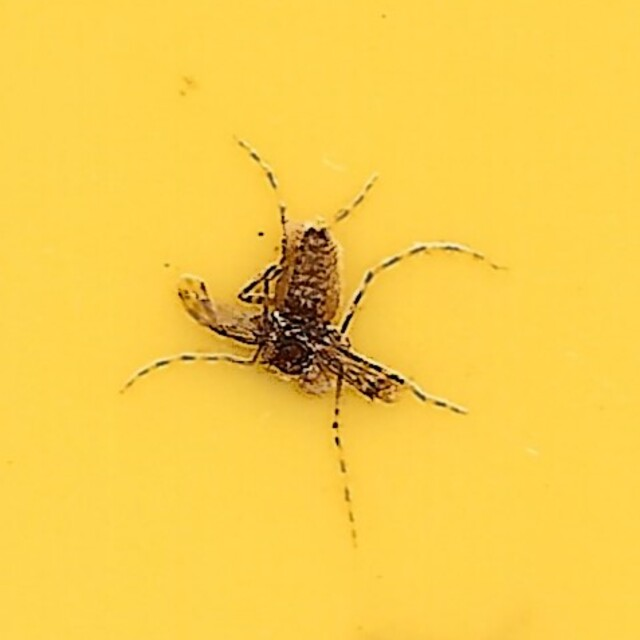Nematocera: (134, 139, 506, 501)
